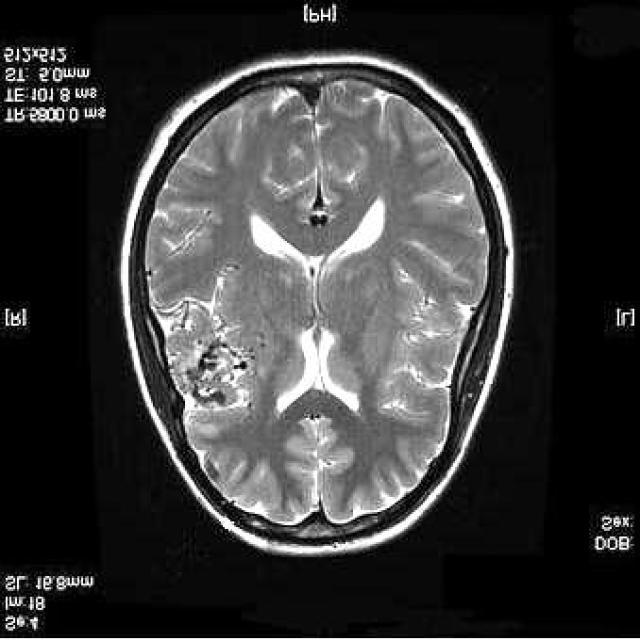notumor: (121, 53, 514, 555)
